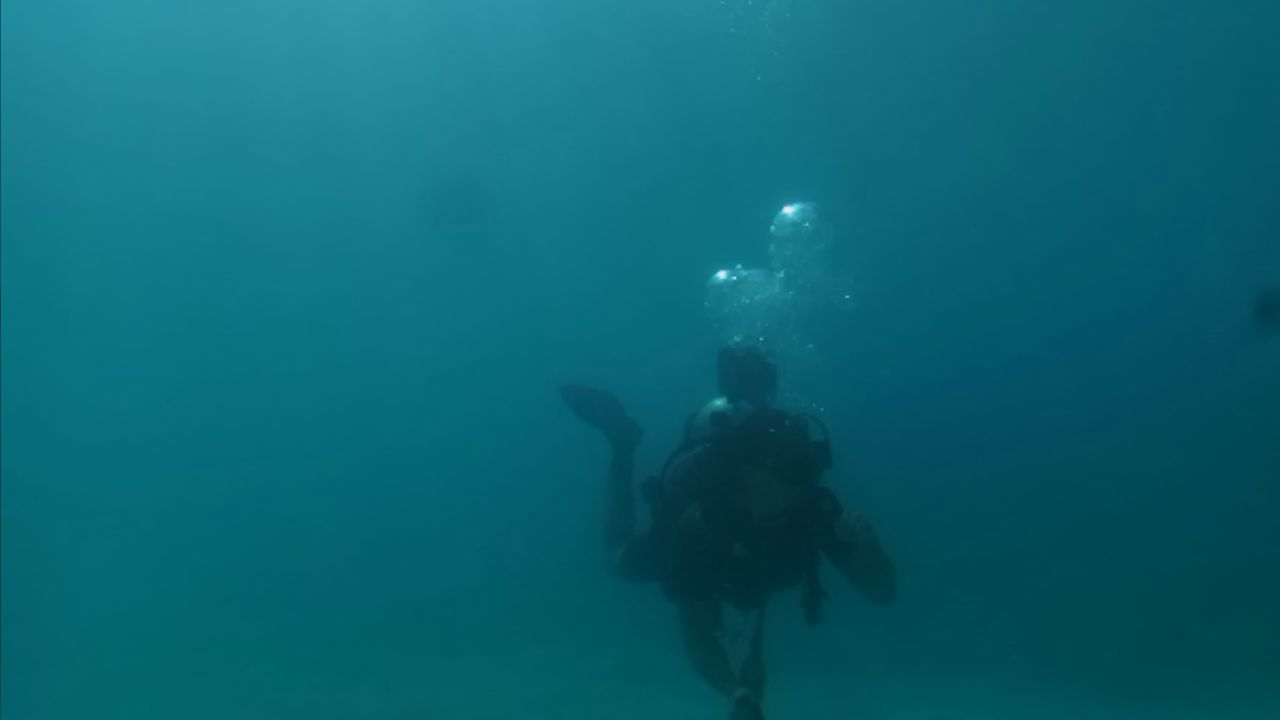Diver: (546, 340, 904, 718)
